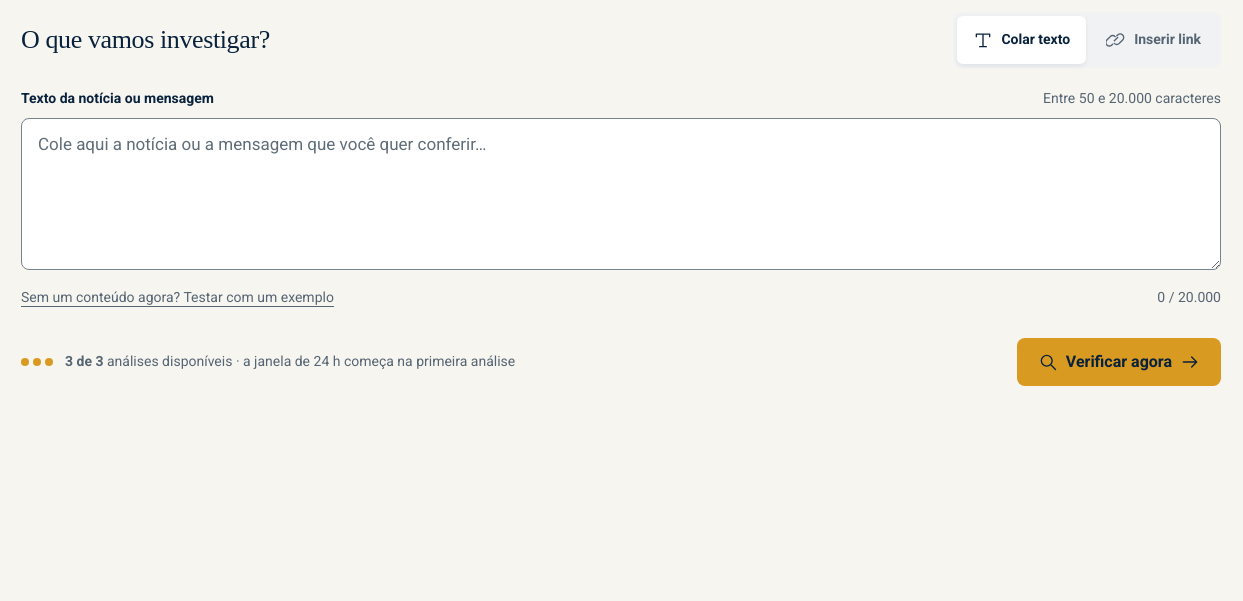
Scenario: validação no navegador (RF01, RF27) › o erro some quando a pessoa volta a digitar
Click the button "Verificar agora": (1119, 362) [1017,338,1221,386]
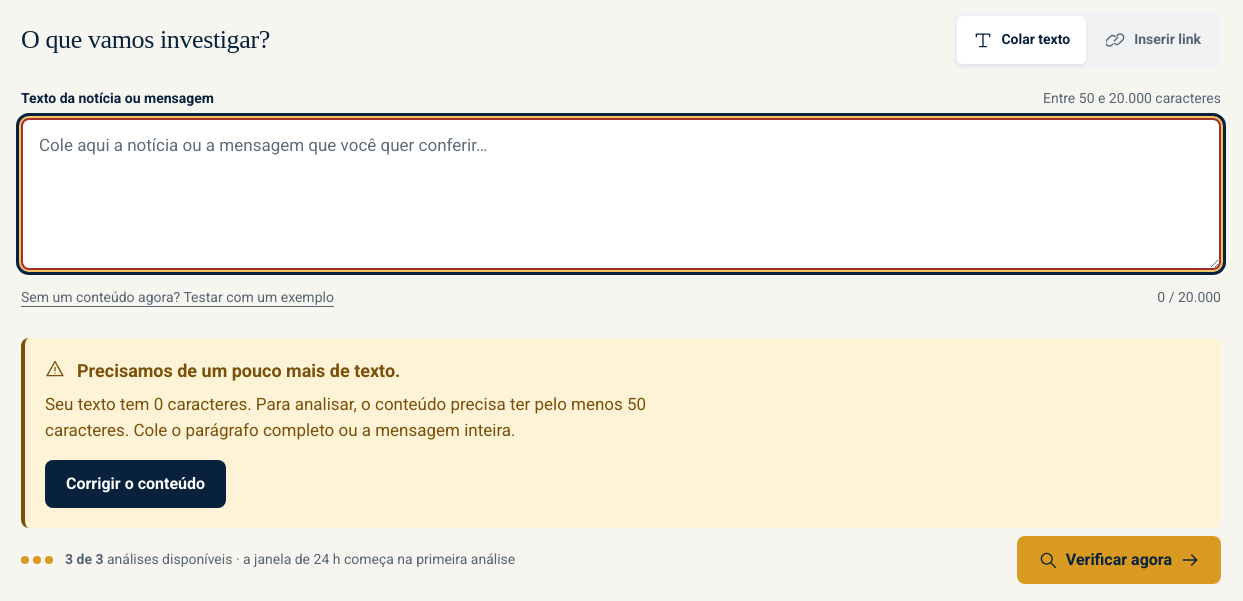
Now the message is shown, box [45,359,646,440]
In the text box labelled "Texto da notícia ou mensagem": (621, 194) [21,118,1221,270], type "a"
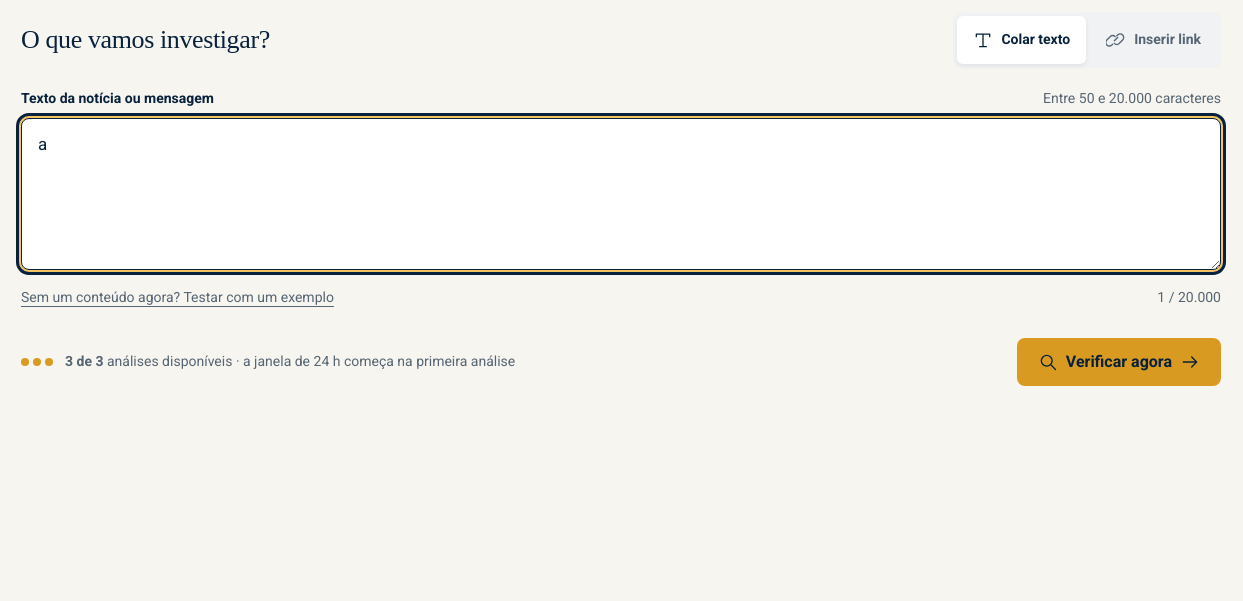
Now the message is gone
